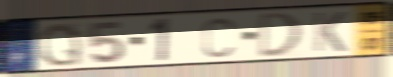1: (148, 16, 171, 63)
5: (87, 20, 127, 65)
C: (201, 16, 237, 59)
D: (257, 10, 304, 60)
K: (312, 10, 348, 53)
Q: (37, 21, 84, 68)
